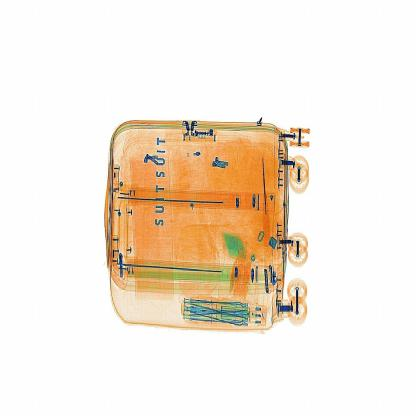wrench: (253, 150, 273, 246)
